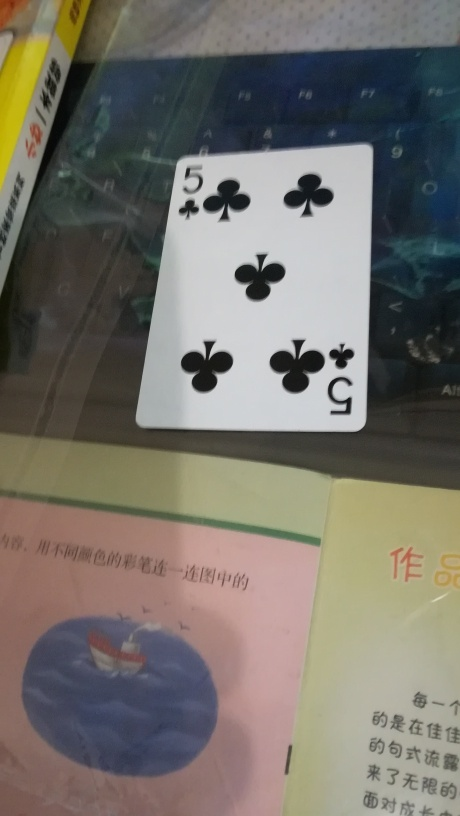mh 5: (136, 141, 372, 435)
